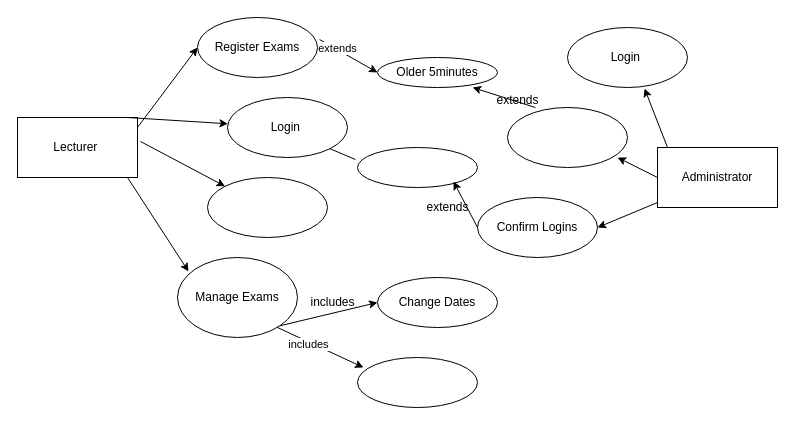
The diagram is 795 pixels wide and 425 high, and some of its shapes have lost their labels. Here are the shapes that lost their labels. From the top down, the centre of each, then its label:
At point (567, 137): "Confirms Registration".
At point (417, 167): "sms code for confirmation".
At point (267, 207): "Register Grades".
At point (417, 382): "Change Exam room".
